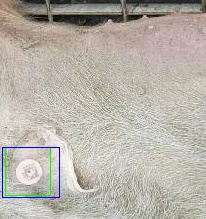text: (5, 147, 50, 195)
